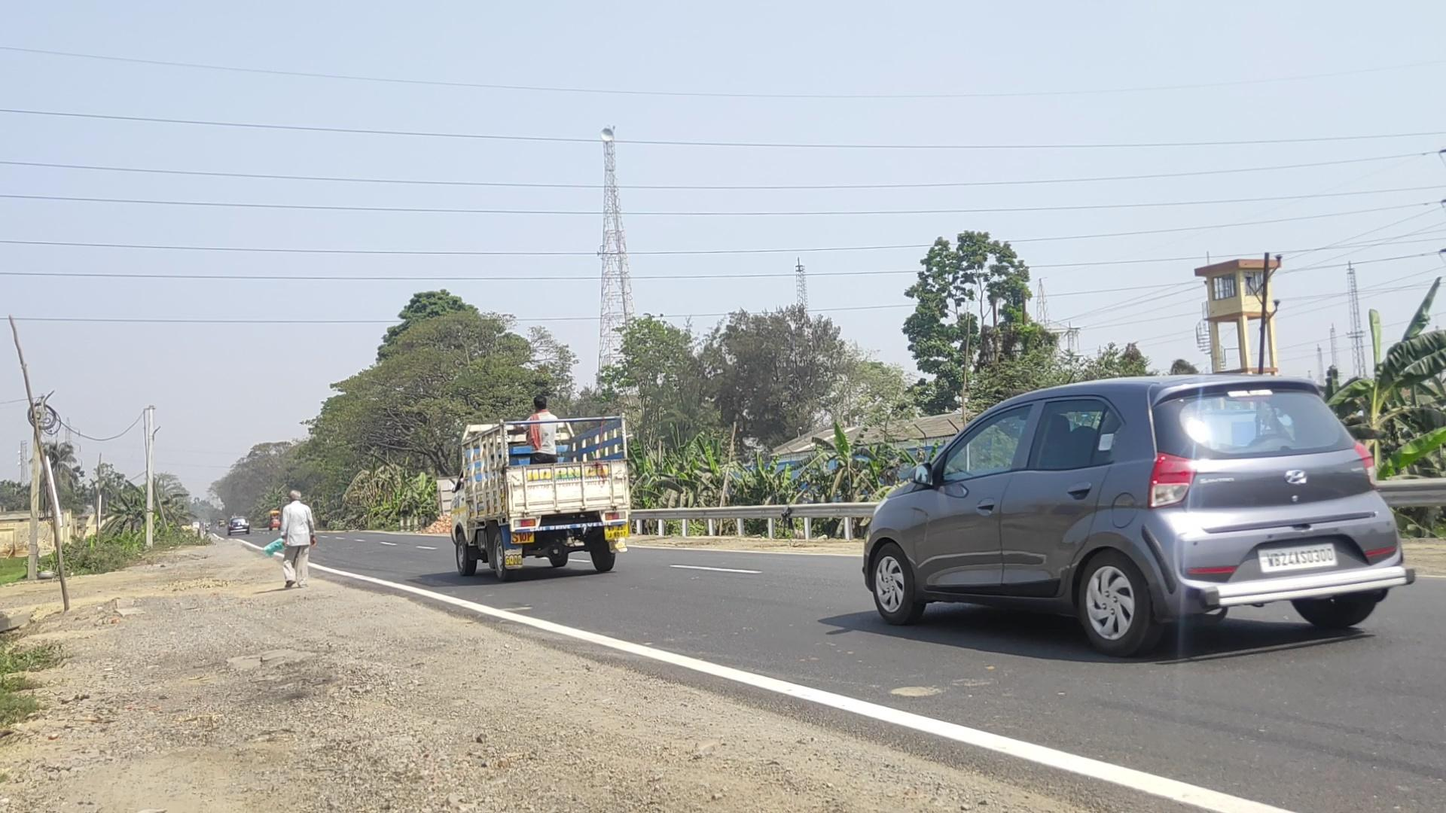car: (862, 372, 1415, 659), (227, 516, 250, 535)
van: (450, 395, 631, 583)
